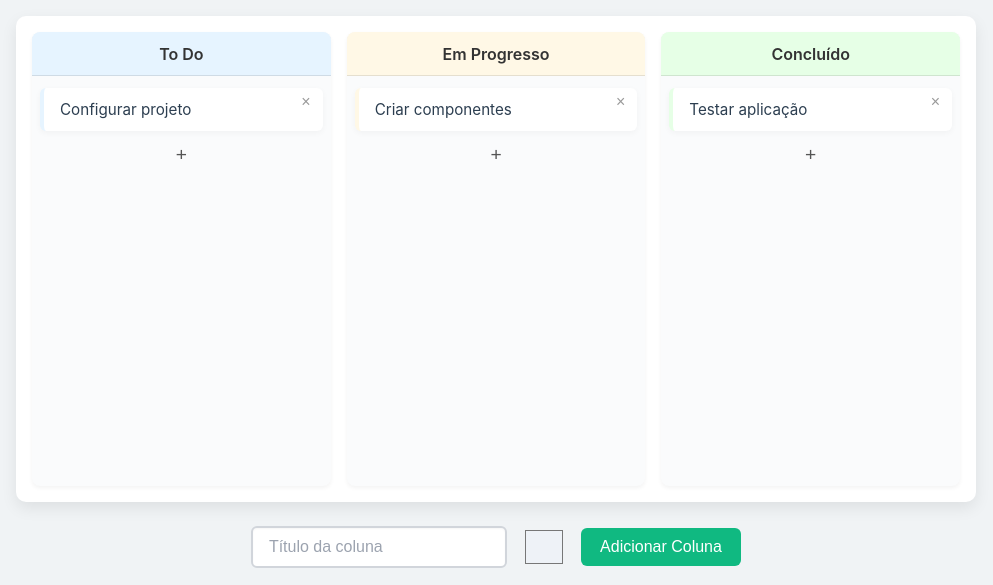
Test: KanbanBoard › adiciona uma nova tarefa temporária
Expected: the heading "To Do" is shown, [32,32,331,76]
What coordinates should you click on to do the following:
click the button named "Adicionar tarefa"
I would click on:
 (181, 155)
Its box is [170,143,193,167].
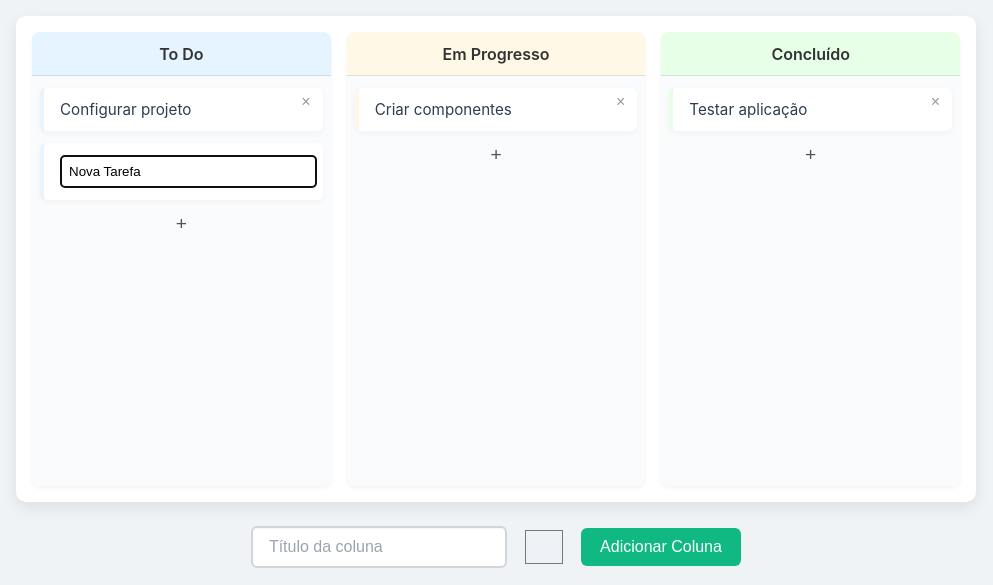
Expected: the field showing "Nova Tarefa" is shown, [60,155,317,188]
